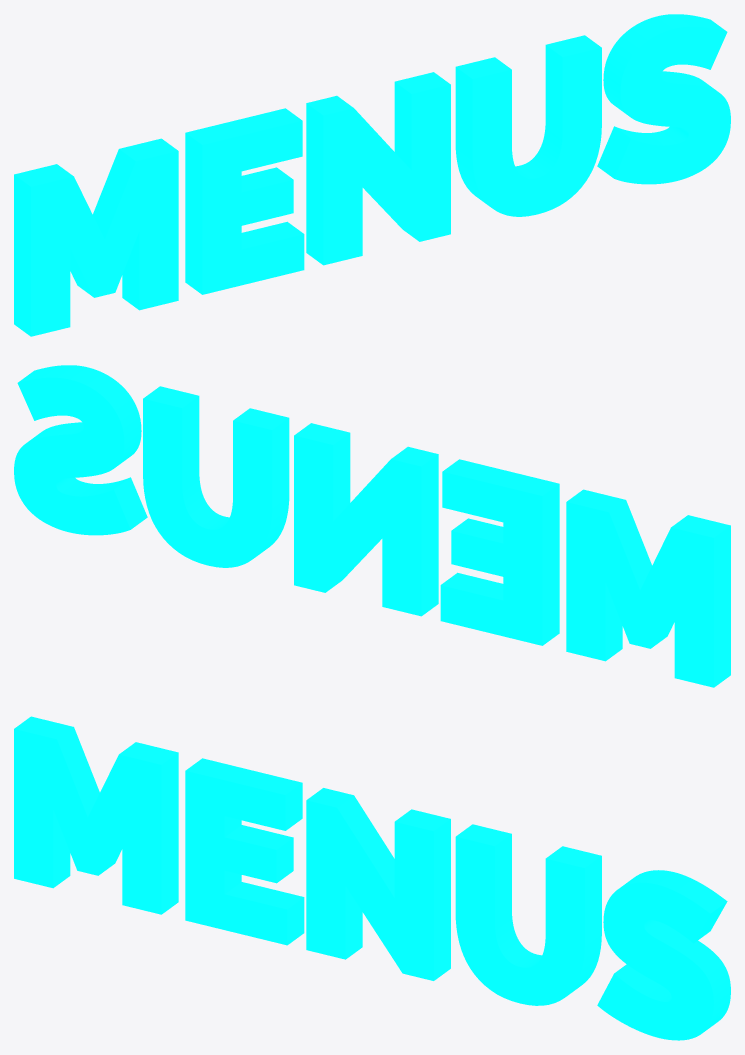
The model's file is menus.fbx.
3 views of the same model, one above another, from view 1: azimuth 30°, elevation 25°; view 2: azimuth 150°, elevation 25°; view 3: azimuth 330°, elevation 25° (orthographic).
Visible parts, largest first — view 1: typeMesh4; view 2: typeMesh4; view 3: typeMesh4.
Part boxes in pixels (x1=…): typeMesh4: x1=14, y1=14, x2=730, y2=336; typeMesh4: x1=14, y1=365, x2=730, y2=687; typeMesh4: x1=14, y1=716, x2=730, y2=1040.
Size of the model in its own units: 59.33 by 12.39 by 2.5.
